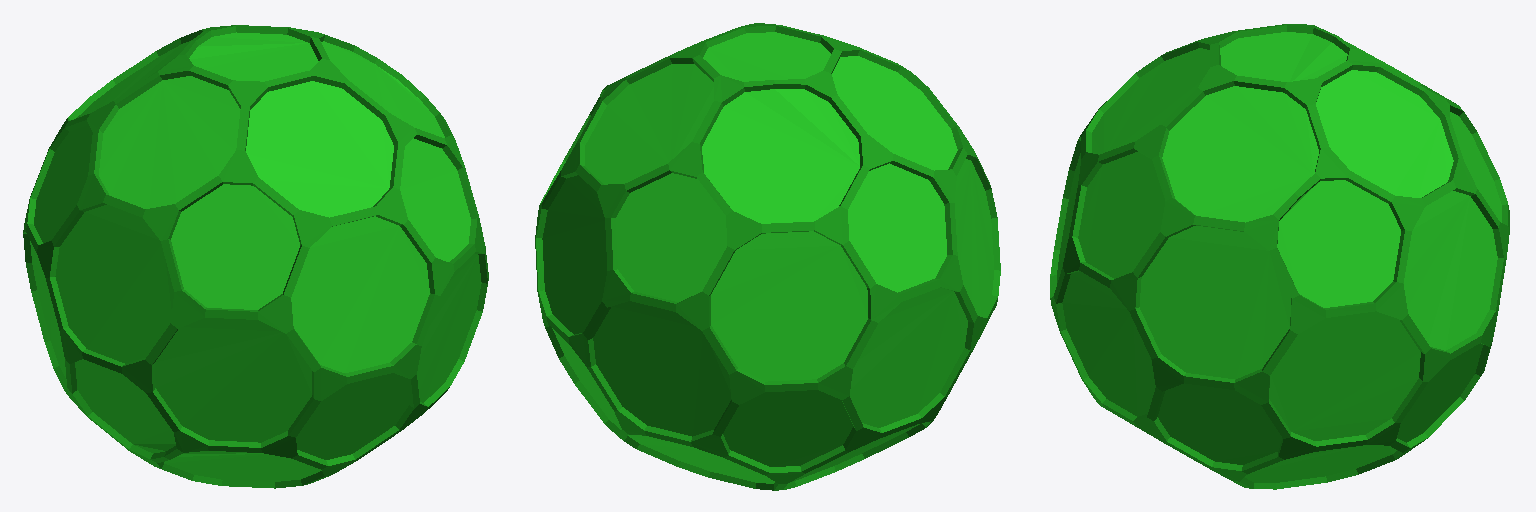
File: re-optimized sphere.obj
3 renders of one model, left to right at view 1: azimuth 30°, elevation 25°; view 2: azimuth 150°, elevation 25°; view 3: azimuth 270°, elevation 25°, orthographic.
Visible parts, largest first — view 1: classic_soccer_ball.2, classic_soccer_ball; view 2: classic_soccer_ball.2, classic_soccer_ball; view 3: classic_soccer_ball.2, classic_soccer_ball.
Boxes of the visible parts, x1=… form: classic_soccer_ball.2: x1=30, y1=32, x2=481, y2=481; classic_soccer_ball: x1=23, y1=25, x2=488, y2=488; classic_soccer_ball.2: x1=542, y1=32, x2=993, y2=483; classic_soccer_ball: x1=535, y1=23, x2=1000, y2=490; classic_soccer_ball.2: x1=1057, y1=32, x2=1501, y2=482; classic_soccer_ball: x1=1050, y1=24, x2=1509, y2=489.
Size of the model in its own units: 19.97 by 19.31 by 19.73.